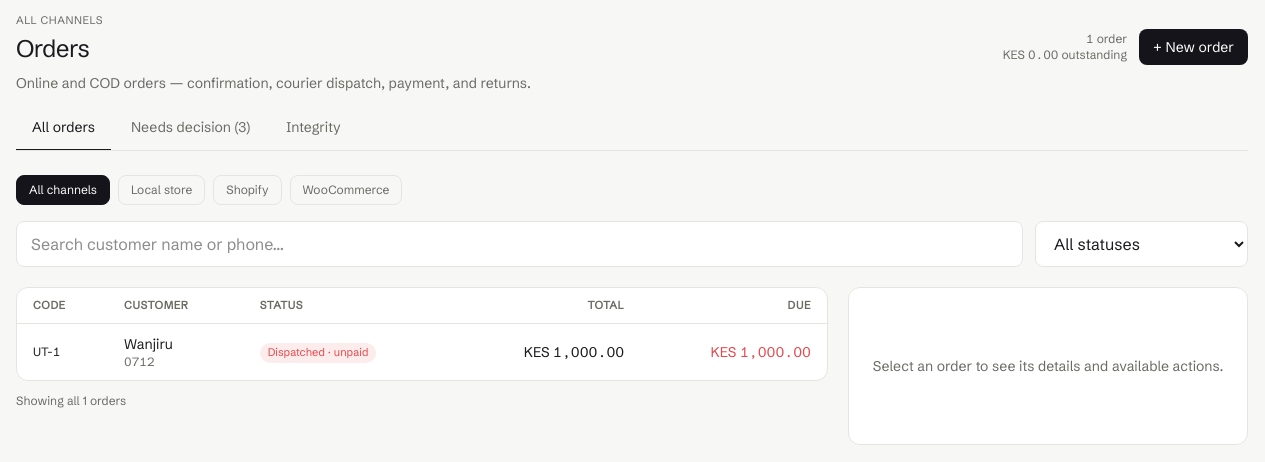
Test case: Orders admin views › shows a manager the views, with the waiting count on the decision tab
Expected: the tab "Needs decision (3)" is shown, [115,104,266,150]
What coordinates should you click on to do the following:
click the tab "Integrity"
I would click on:
 (314, 128)
Its box is [270,104,357,150].
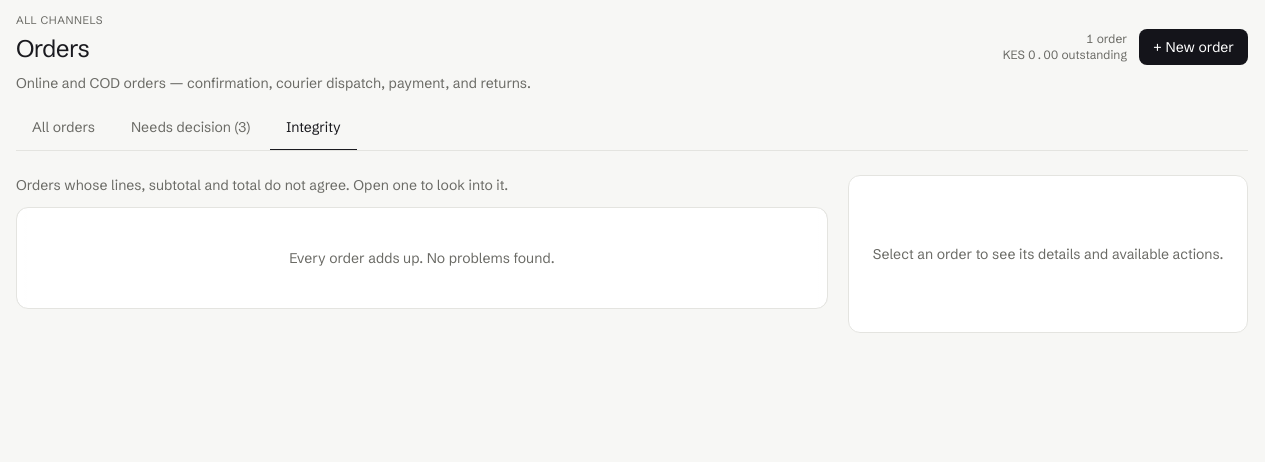
Now the text "Every order adds up. No problems found." is shown, box [289,248,555,266]
What coordinates should you click on to do the following:
click the tab "All orders"
I would click on:
 (63, 128)
Its box is [16,104,111,150].
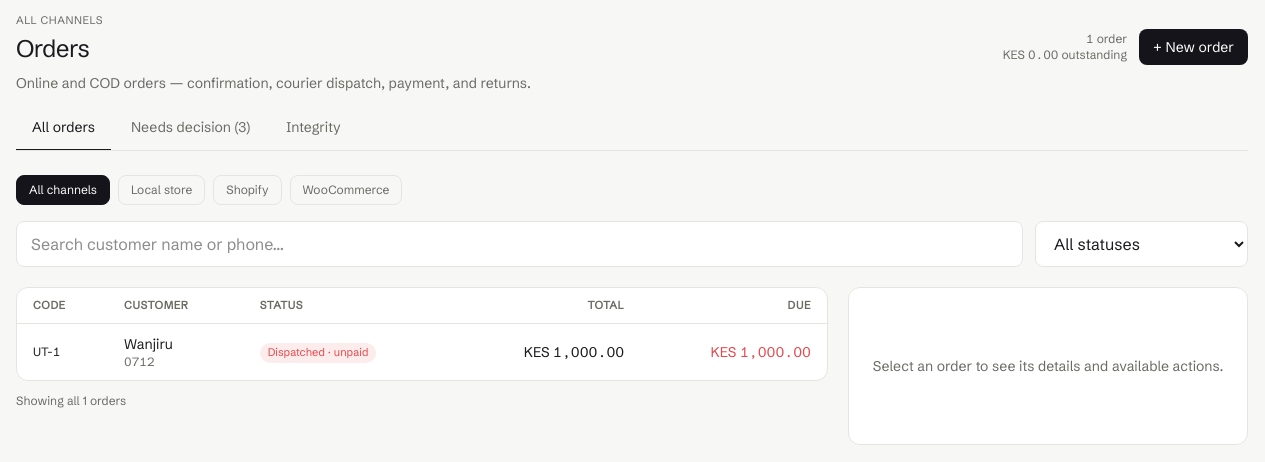
Now the text "Wanjiru" is shown, box [124,335,173,353]
